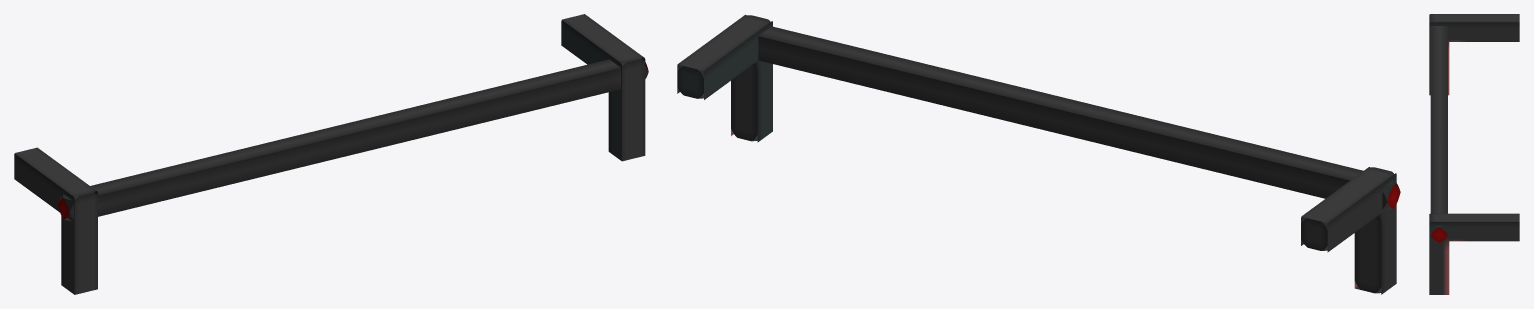
Rendered from reversing.obj.
The picture shows the model from 3 angles, left to right: view 1: azimuth 30°, elevation 25°; view 2: azimuth 150°, elevation 25°; view 3: azimuth 270°, elevation 25°; orthographic projection. The views are drawn at different scales.
Parts seen in each view (by area): view 1: cuboid; view 2: cuboid; view 3: cuboid.
Part boxes in pixels (<box>): cuboid: <box>14,14,648,294</box>; cuboid: <box>677,14,1400,294</box>; cuboid: <box>1429,14,1519,294</box>.
Bounding box in the file's own units: 2.49 × 0.4 × 0.45.
